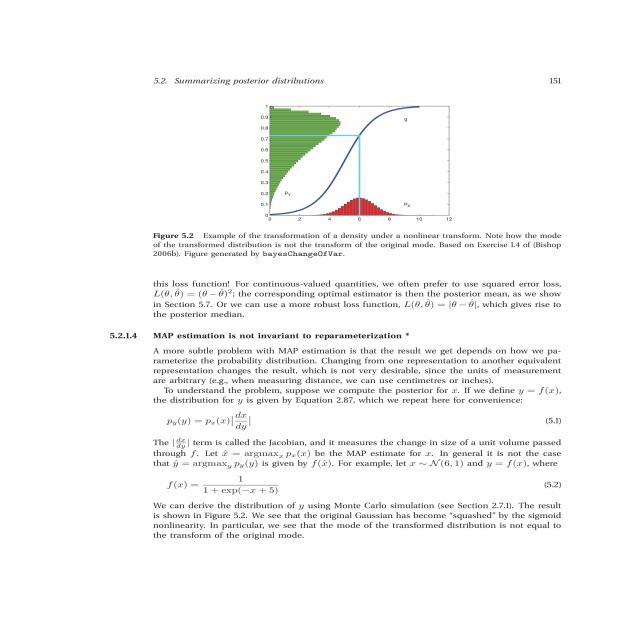diagram: (125, 57, 584, 268)
